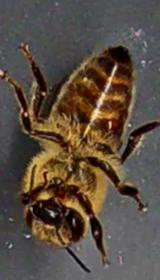varroa_mite: (93, 111, 127, 136)
